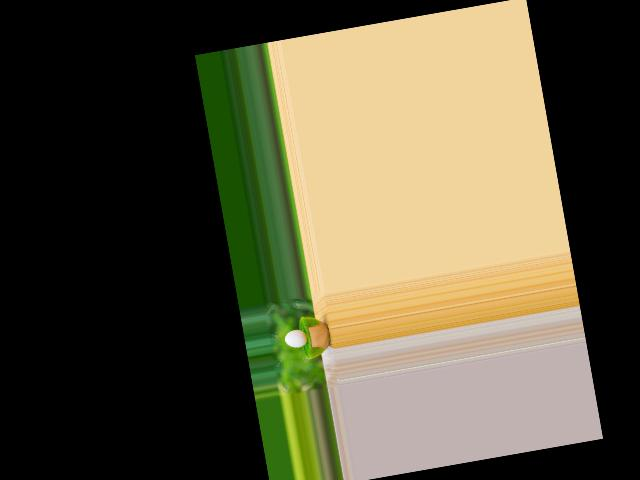egg: (284, 328, 309, 350)
